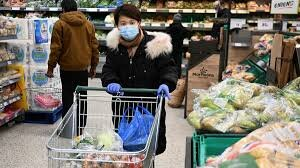with_basket: (44, 84, 164, 168)
with_mask: (116, 3, 140, 40)
